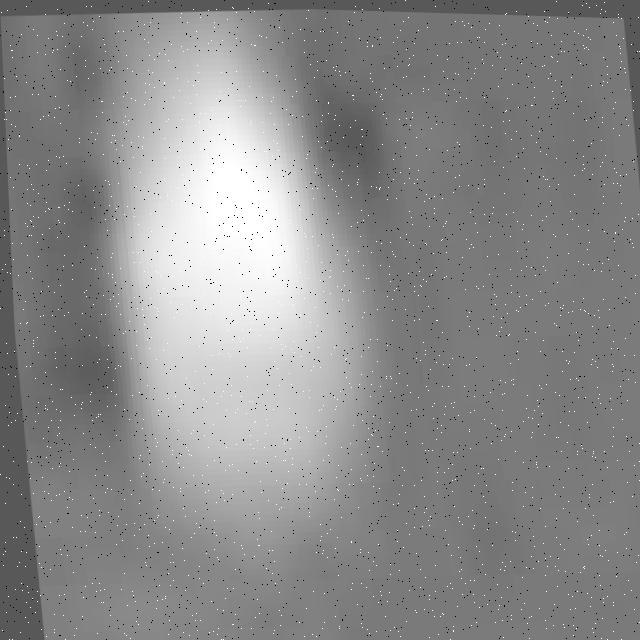person: (64, 2, 381, 548)
